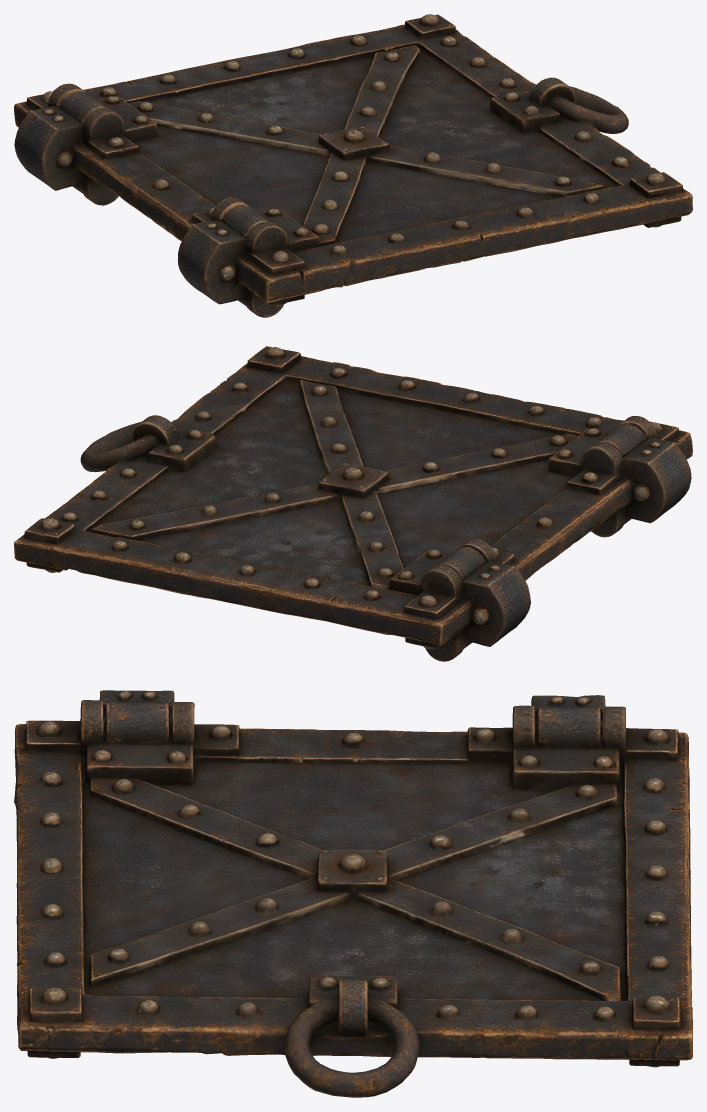
File: raw_hatch.glb
The picture shows the model from 3 angles, top to bottom: view 1: azimuth 30°, elevation 25°; view 2: azimuth 150°, elevation 25°; view 3: azimuth 270°, elevation 25°; orthographic projection. The views are drawn at different scales.
Parts seen in each view (by area): view 1: tripo_node_ee6c69d1-f037-4599-90c9-d69bff8679f4; view 2: tripo_node_ee6c69d1-f037-4599-90c9-d69bff8679f4; view 3: tripo_node_ee6c69d1-f037-4599-90c9-d69bff8679f4.
Boxes of the visible parts, <box> form: tripo_node_ee6c69d1-f037-4599-90c9-d69bff8679f4: <box>14,14,692,317</box>; tripo_node_ee6c69d1-f037-4599-90c9-d69bff8679f4: <box>14,346,692,661</box>; tripo_node_ee6c69d1-f037-4599-90c9-d69bff8679f4: <box>14,690,692,1097</box>.
Bounding box in the file's own units: 1 × 0.1817 × 0.8627.
Materials: 1 (1 with a texture image).
